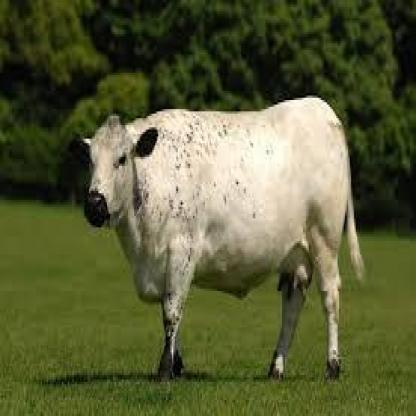cow: (82, 96, 364, 380)
